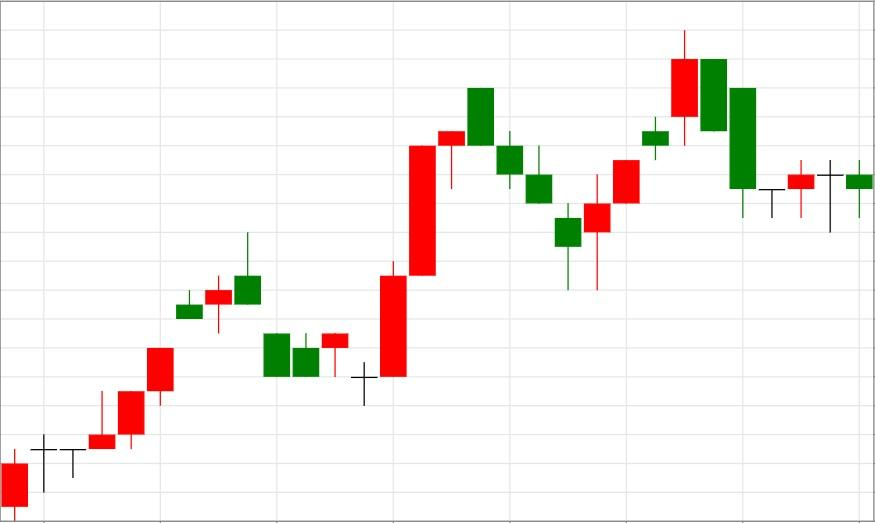three_black_crows_fall: (351, 88, 553, 407)
